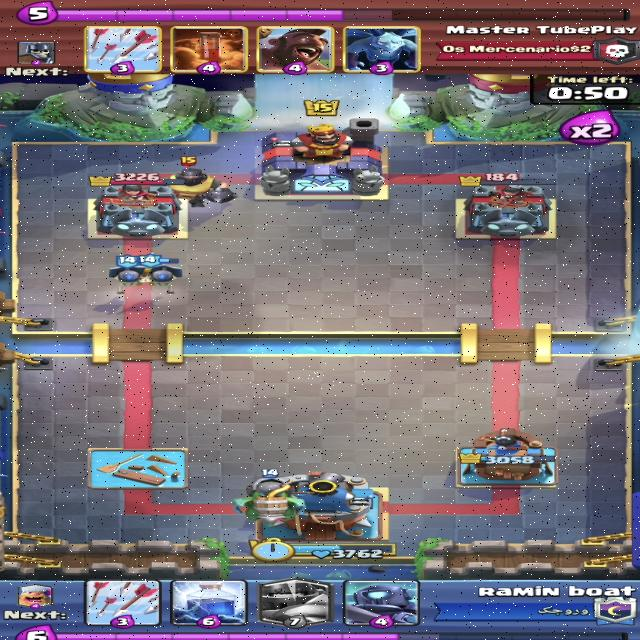Enemy-MegaKnight: (143, 156, 240, 208)
Player-Guard: (136, 252, 183, 295), (108, 254, 154, 294)
Player-InfernoDragon: (233, 469, 308, 527)
